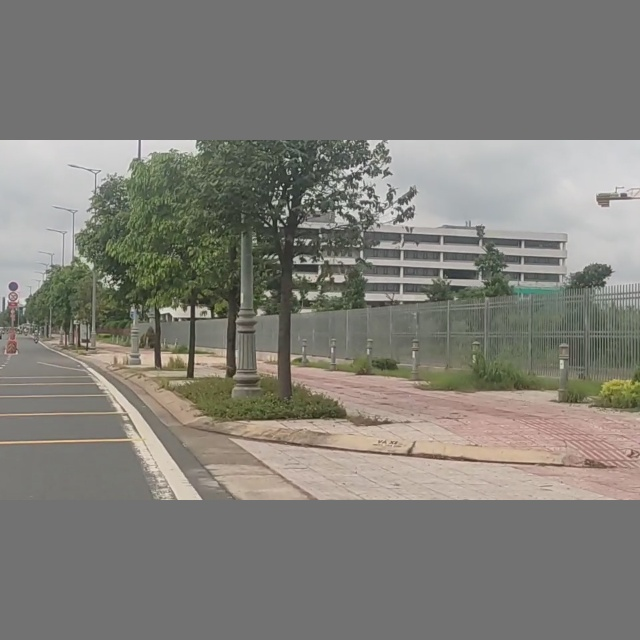P.111: (8, 293, 17, 301)
P.130: (8, 280, 19, 290)
